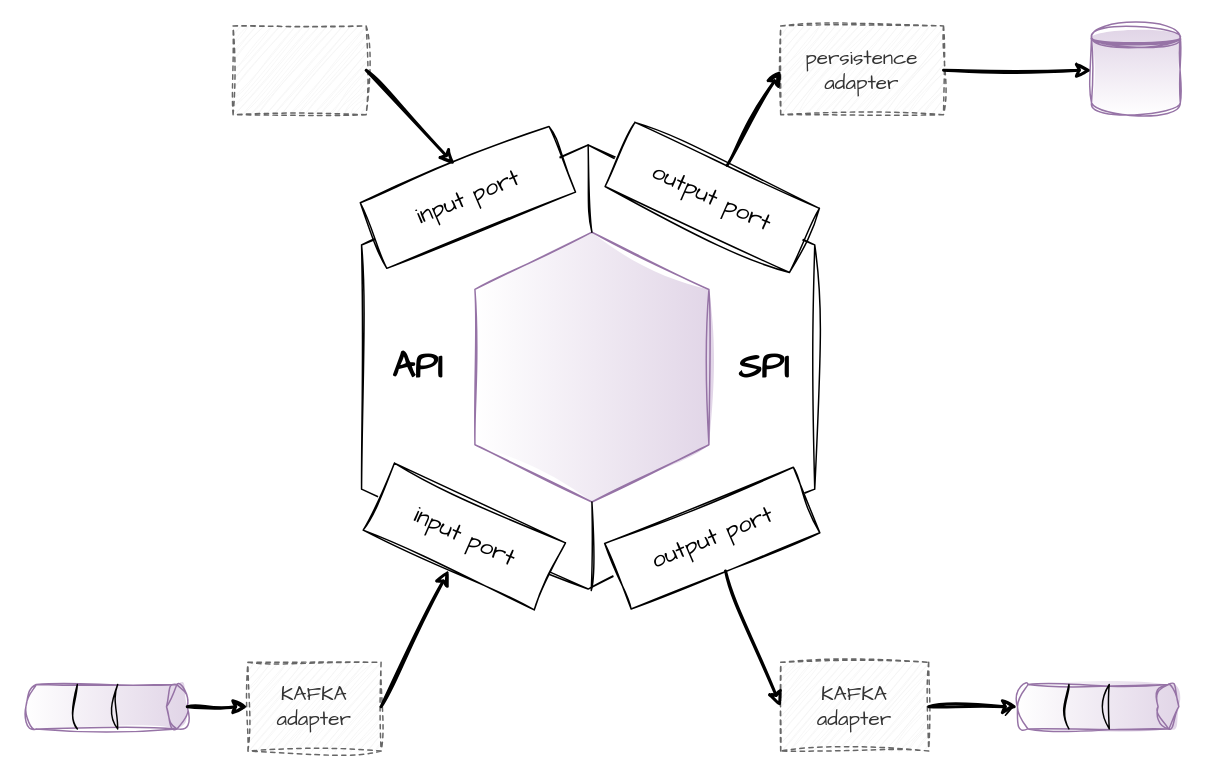
This 1206x777 diagram has some shape labels left out. Each missing label, with the centre of its shape:
Domain: the point at 591,366
HTTP adapter: the point at 299,69
